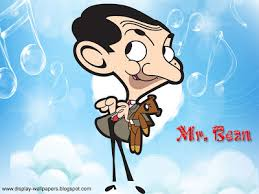mrbean: (71, 3, 184, 194)
